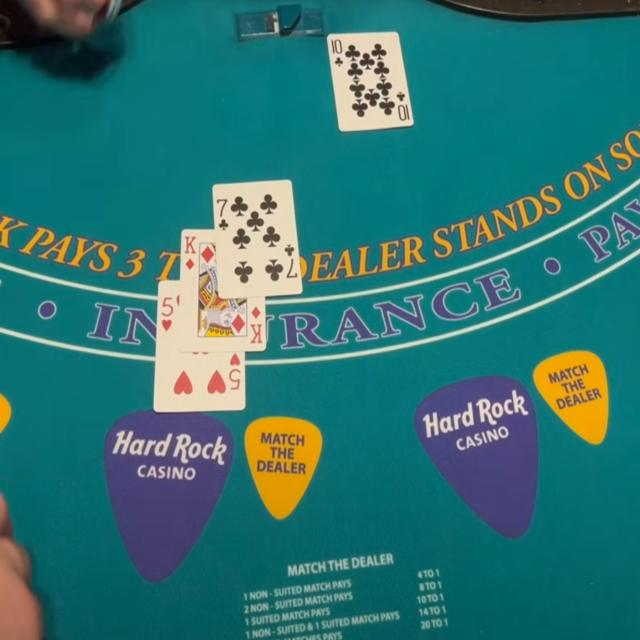10: (329, 37, 344, 56)
5: (160, 294, 175, 318)
7: (214, 196, 230, 218)
K: (182, 232, 198, 256)
